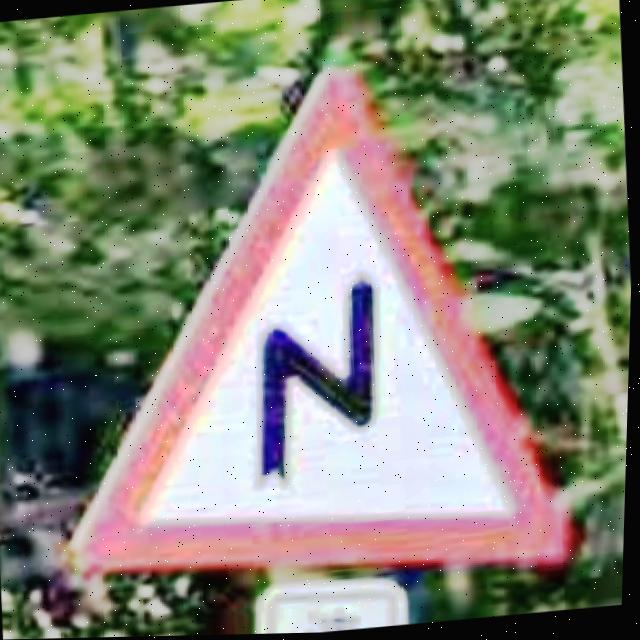doublebendright: (74, 73, 573, 575)
